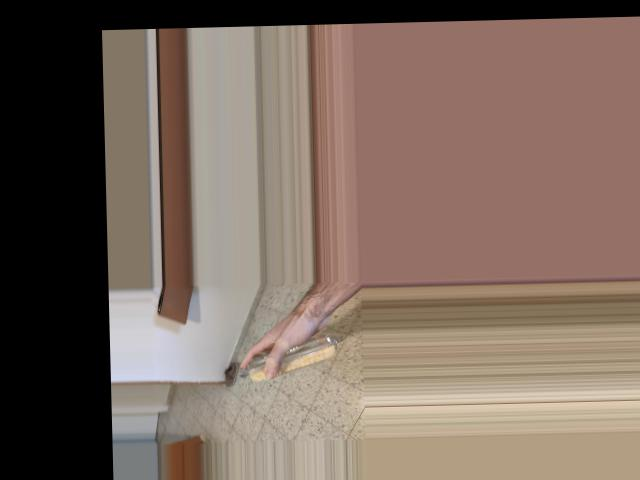cheese: (233, 311, 328, 394)
